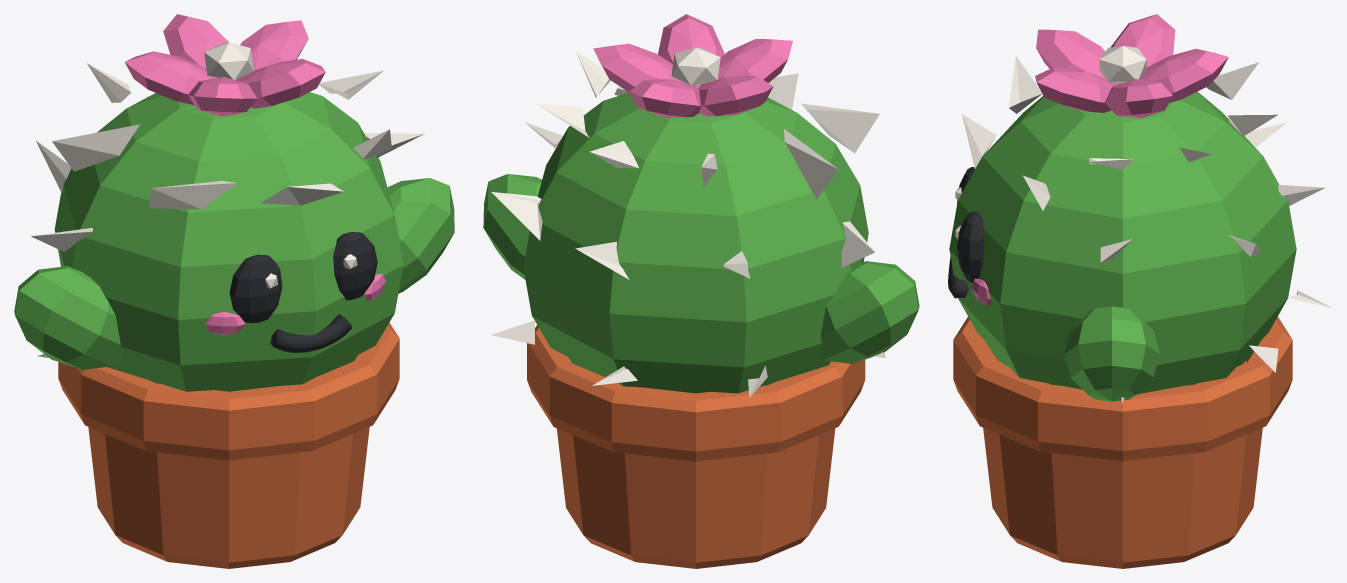
Rendered from cactus-pet.glb.
3 views of the same model, side by side, from view 1: azimuth 30°, elevation 25°; view 2: azimuth 150°, elevation 25°; view 3: azimuth 270°, elevation 25° (orthographic).
Parts seen in each view (by area): view 1: Body, Pot, Flower, Spines, Arm_L, Arm_R, Eye_L, Eye_R, Smile, FlowerCenter, Cheek_L; view 2: Body, Pot, Spines, Flower, Arm_L, Arm_R, FlowerCenter; view 3: Body, Pot, Flower, Arm_R, Spines, Eye_R, FlowerCenter.
Part boxes in pixels (box(x1,y1,x2,y2)): Body: box(54, 92, 403, 391); Pot: box(58, 322, 399, 568); Flower: box(124, 14, 325, 116); Spines: box(31, 63, 424, 357); Arm_L: box(14, 266, 122, 369); Arm_R: box(387, 178, 454, 293); Eye_L: box(229, 254, 282, 322); Eye_R: box(333, 232, 377, 300); Smile: box(270, 314, 351, 352); FlowerCenter: box(204, 42, 253, 79); Cheek_L: box(205, 312, 245, 334); Body: box(523, 92, 868, 393); Pot: box(527, 325, 865, 568); Spines: box(491, 51, 885, 397); Flower: box(593, 14, 792, 117); Arm_L: box(819, 261, 919, 363); Arm_R: box(483, 174, 541, 279); FlowerCenter: box(671, 48, 720, 85); Body: box(949, 91, 1296, 394); Pot: box(953, 316, 1292, 568); Flower: box(1035, 14, 1228, 118); Arm_R: box(1064, 306, 1159, 401); Spines: box(962, 55, 1331, 402); Eye_R: box(957, 212, 984, 282); FlowerCenter: box(1099, 46, 1146, 83).
Size of the model in its own units: 2.32 by 2.39 by 1.77.
